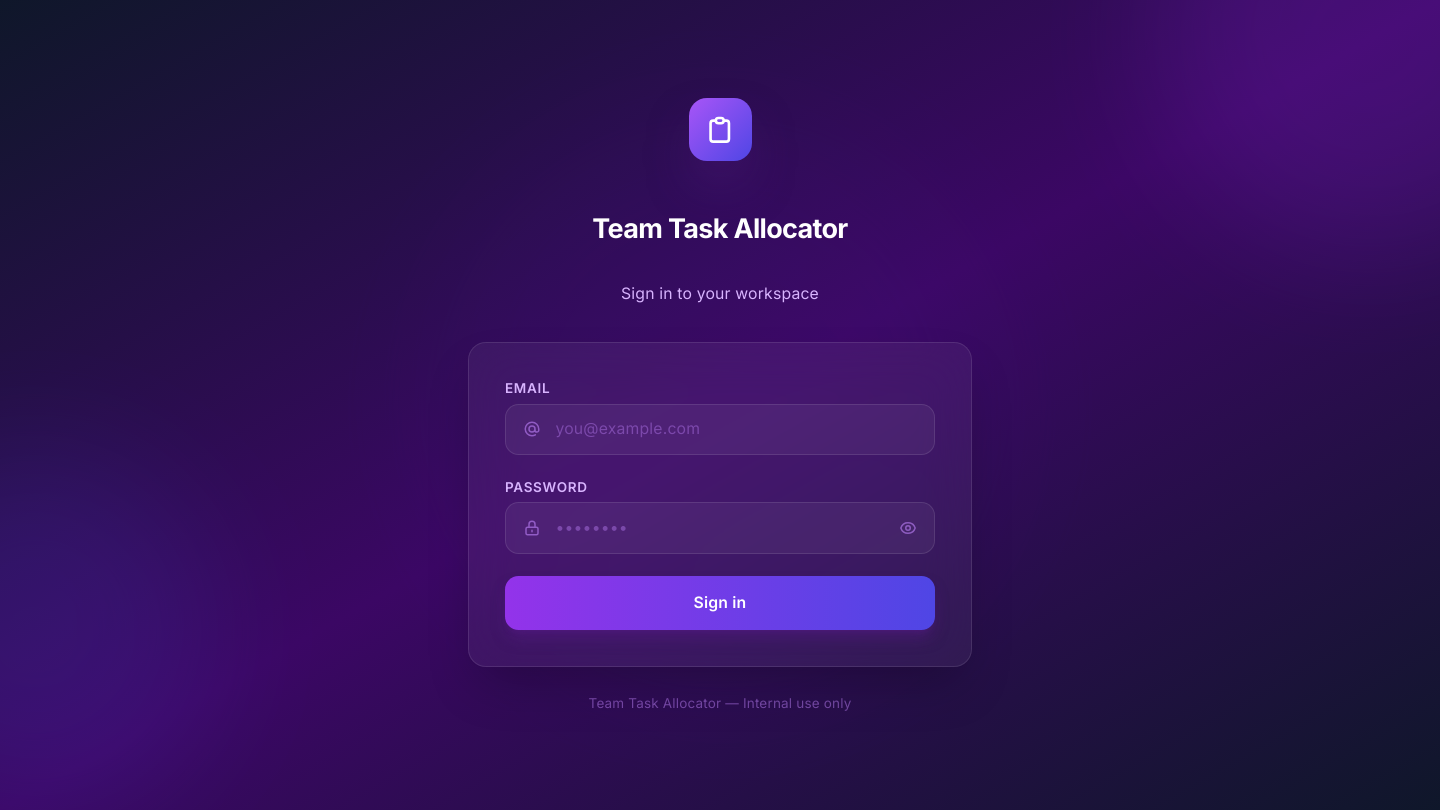
Test: Login — failed sign in › shows an error message when login rejects
The width and height of the screenshot is (1440, 810).
Type "wrong@example.com" into the field with placeholder "you@example.com" at (720, 429), box [505,404,935,455]
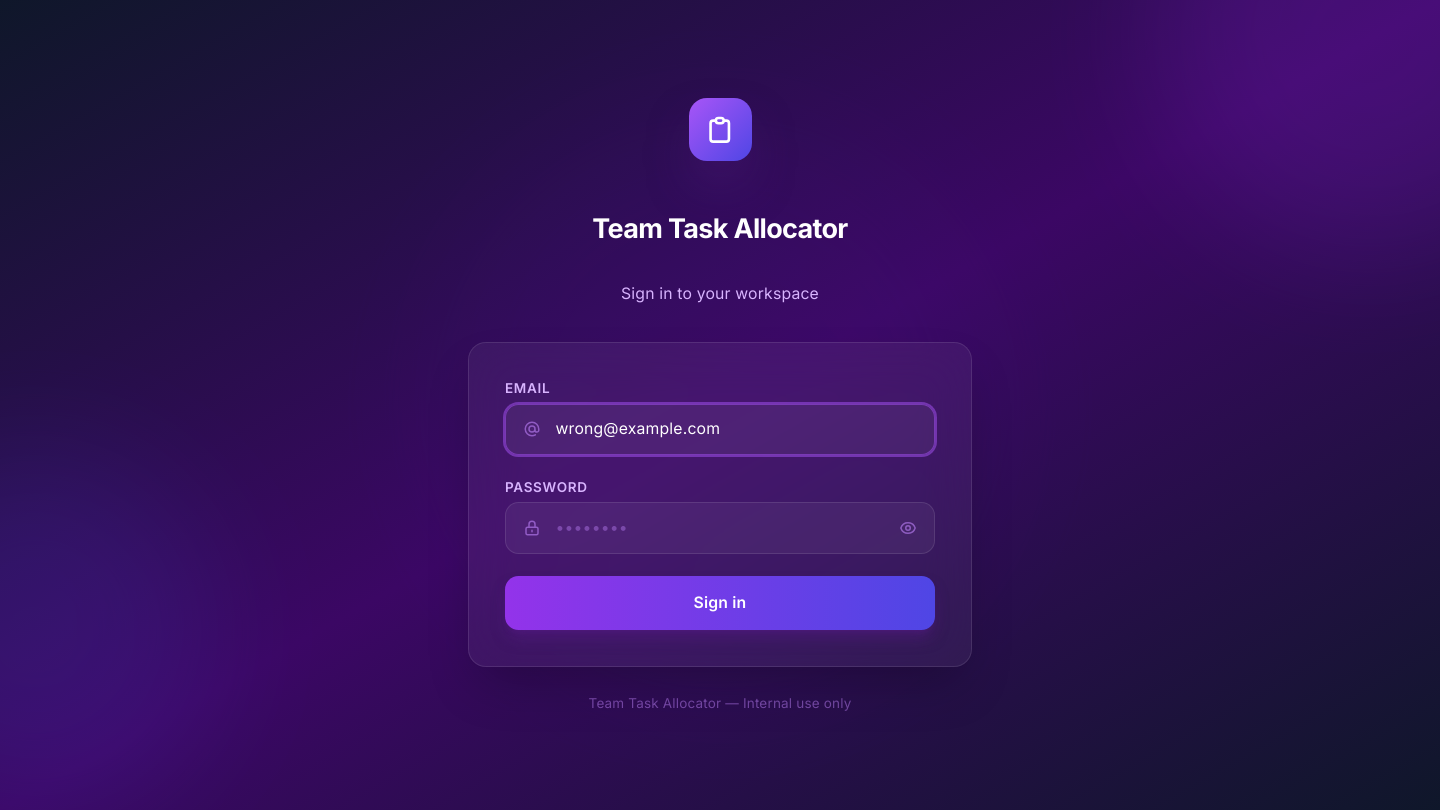
Type "wrongpass" into the password field with placeholder "••••••••" at (720, 528), box [505,502,935,554]
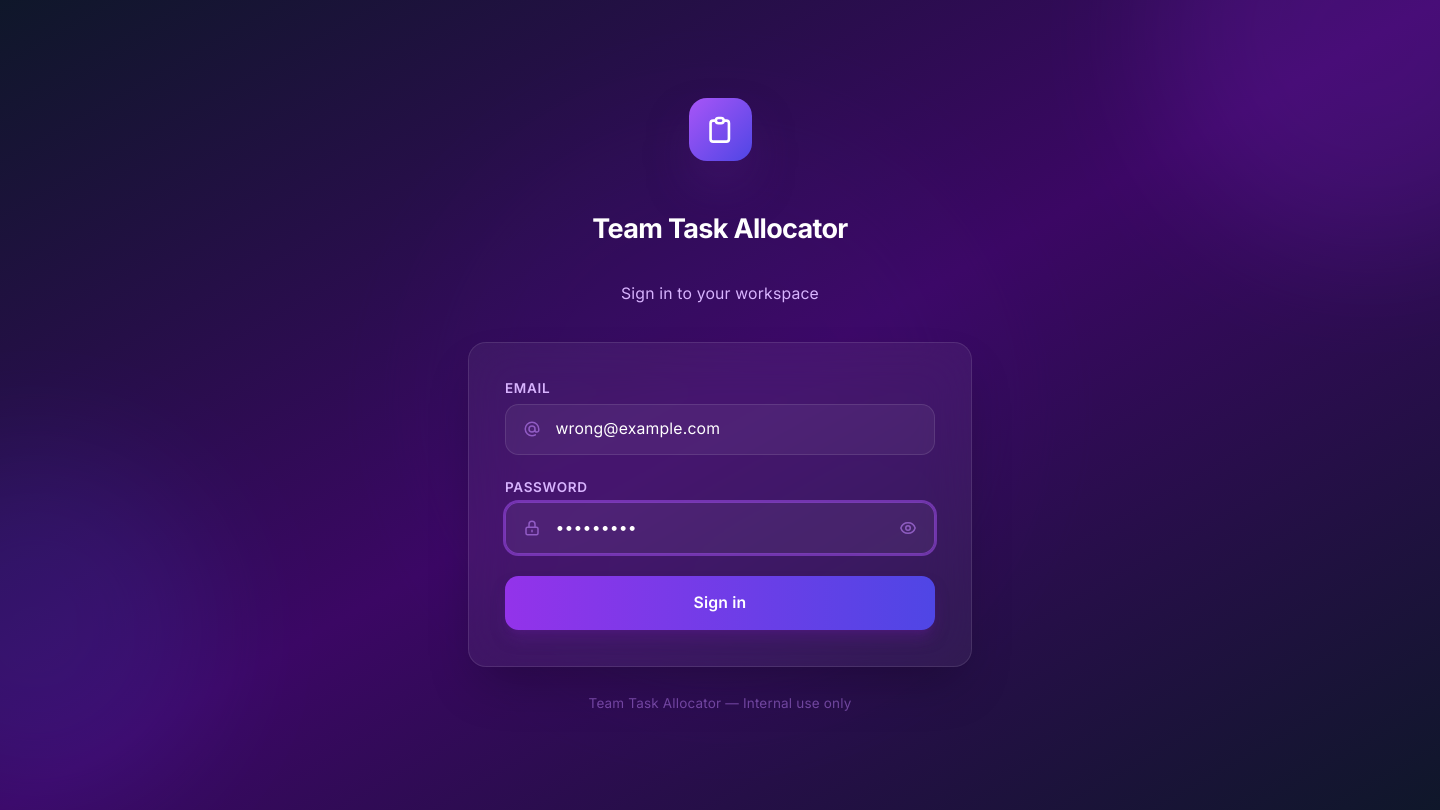
Click the button "Sign in" at (720, 603), box [505,576,935,630]
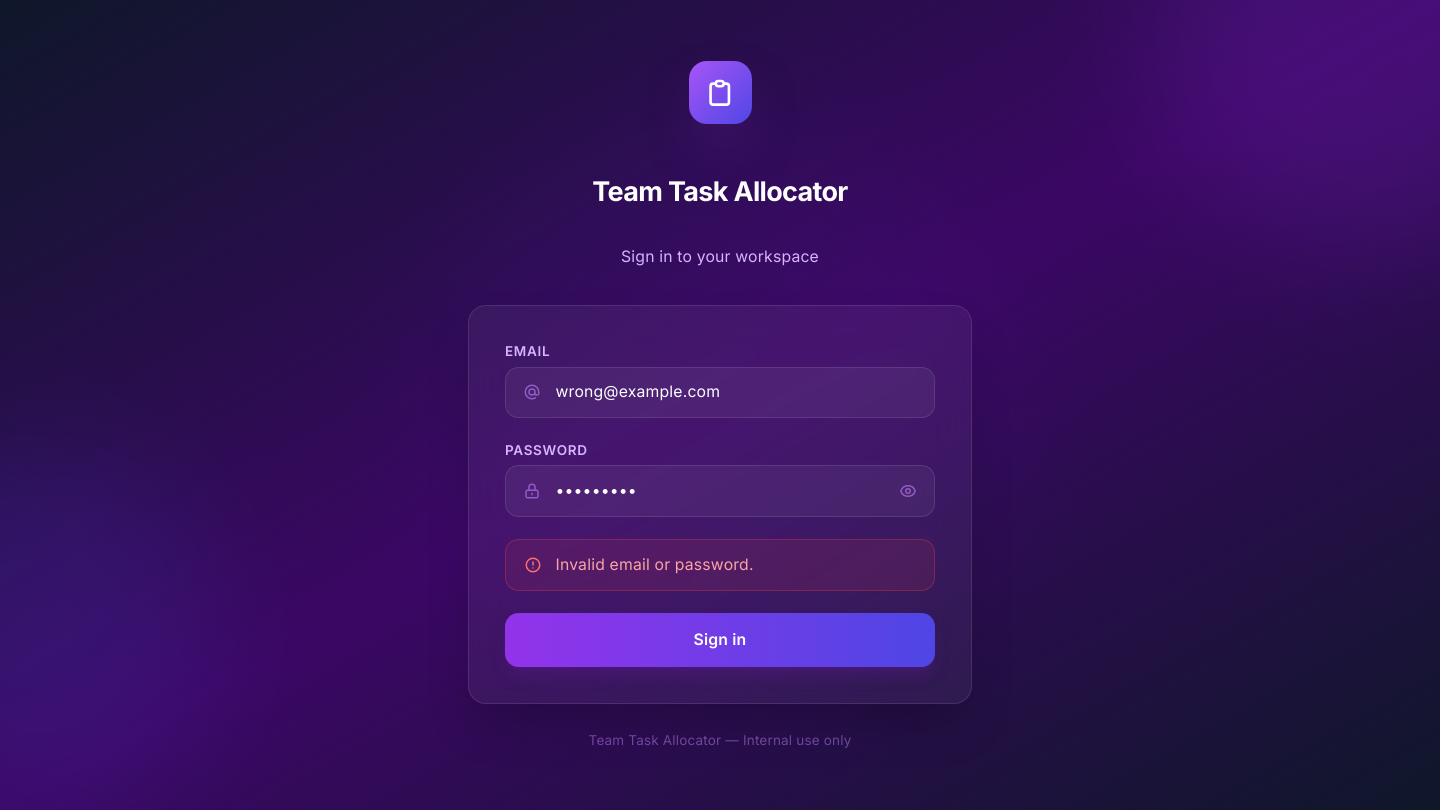
Now the text "Invalid email or password." is shown, box [556,554,754,576]
